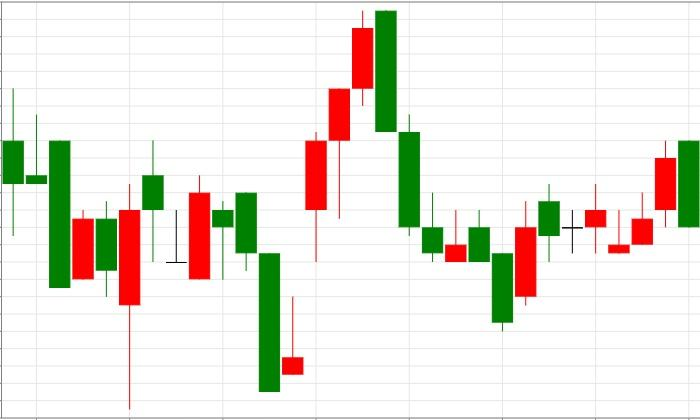inverse_hammer_rise: (142, 140, 305, 393)
three_black_crows_fall: (258, 10, 444, 392)
